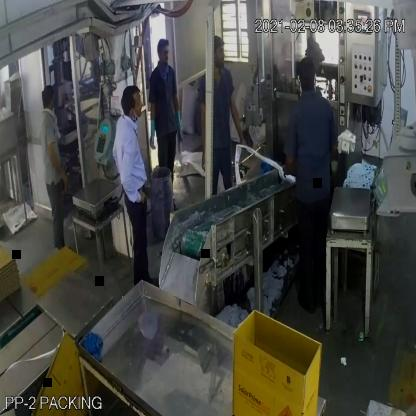glove: (143, 109, 162, 164), (168, 109, 186, 146)
no_glove: (45, 128, 77, 195), (118, 140, 143, 214), (192, 95, 212, 180), (230, 87, 248, 152), (280, 150, 296, 182)
